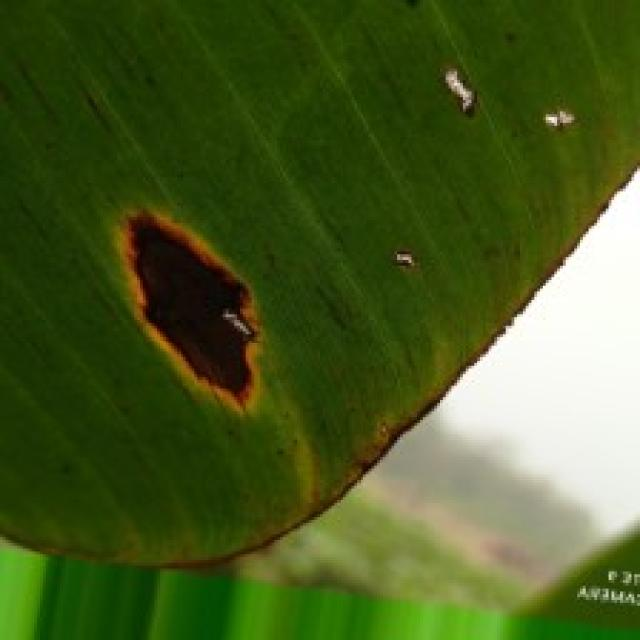Bacterial_spot: (109, 185, 262, 434), (430, 42, 488, 149), (378, 232, 432, 301), (534, 90, 596, 150)
